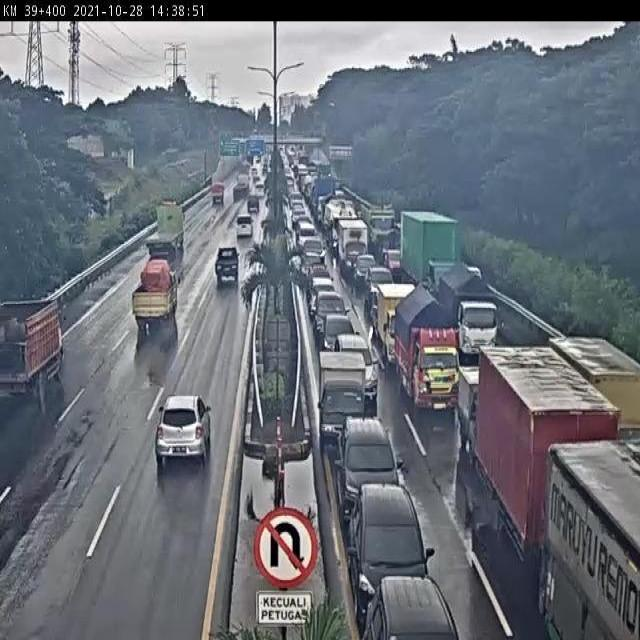big truck: (479, 345, 626, 595), (143, 199, 188, 261), (229, 172, 249, 207)
car: (349, 486, 436, 618), (335, 418, 399, 530), (363, 577, 460, 640), (154, 394, 214, 466), (335, 336, 380, 403), (319, 315, 360, 369), (312, 290, 350, 342), (367, 265, 395, 308), (309, 276, 334, 316), (355, 255, 376, 288), (232, 216, 255, 244), (244, 194, 260, 218)
small bus: (252, 184, 266, 203)
small truck: (548, 336, 640, 483), (393, 287, 462, 416), (0, 298, 63, 406), (458, 365, 521, 468), (437, 263, 495, 361), (397, 210, 457, 302), (317, 348, 369, 449), (131, 259, 182, 332), (377, 283, 420, 369), (339, 220, 369, 276), (212, 248, 240, 289), (208, 181, 226, 208)
